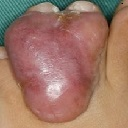Keloids: (10, 7, 103, 121)
